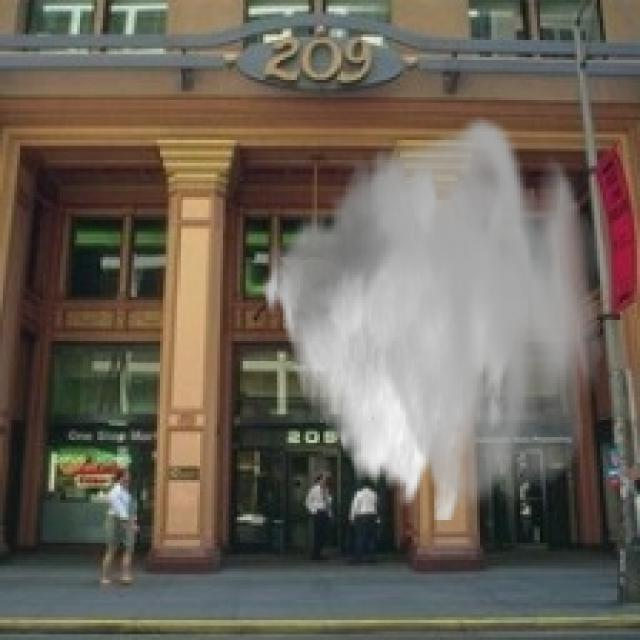Smoke: (260, 111, 603, 520)
